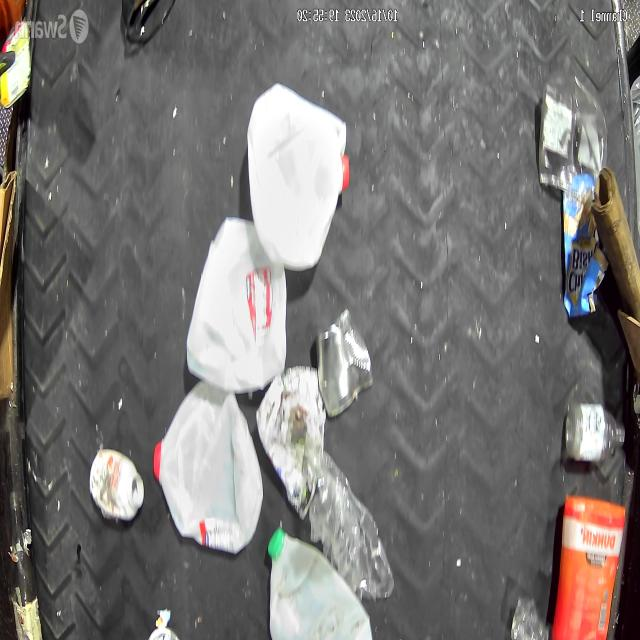can: (316, 296, 372, 422), (82, 442, 144, 528)
milk_jug: (246, 75, 352, 268), (185, 210, 293, 394), (154, 382, 264, 562), (258, 522, 370, 640)
non_white_jug: (550, 487, 629, 640)
plastic_bottle: (306, 444, 394, 596)
